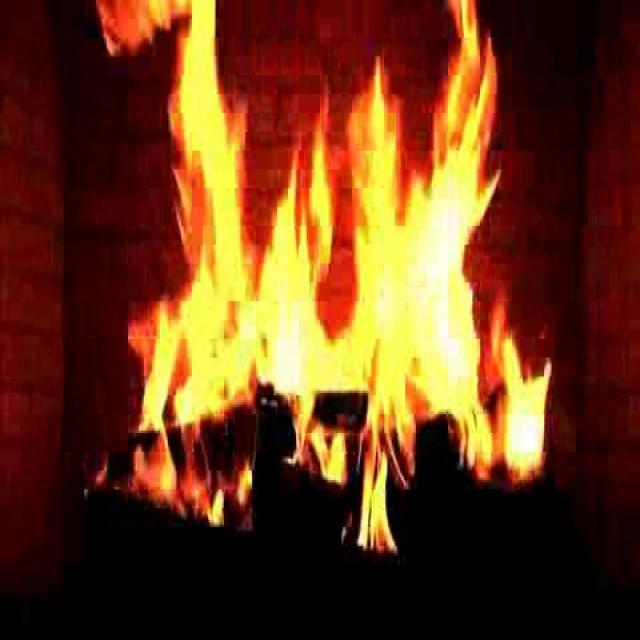fire: (138, 1, 530, 506)
